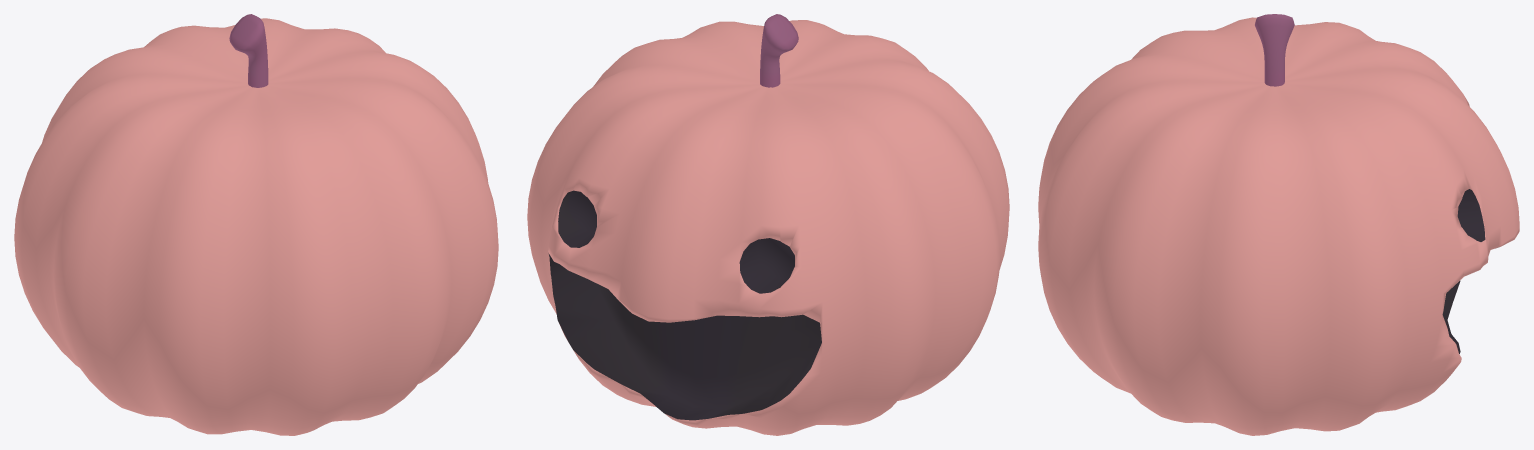
File: pumpkin.glb
3 renders of one model, left to right at view 1: azimuth 30°, elevation 25°; view 2: azimuth 150°, elevation 25°; view 3: azimuth 270°, elevation 25°, orthographic.
Parts seen in each view (by area): view 1: Pumpkin; view 2: Pumpkin; view 3: Pumpkin.
Boxes of the visible parts, x1,y1,x2,y2 form: Pumpkin: (14, 14, 498, 435); Pumpkin: (527, 14, 1009, 435); Pumpkin: (1038, 14, 1519, 435).
Bounding box in the file's own units: 1.94 × 1.61 × 1.93.
Materials: 1 (1 with a texture image).
